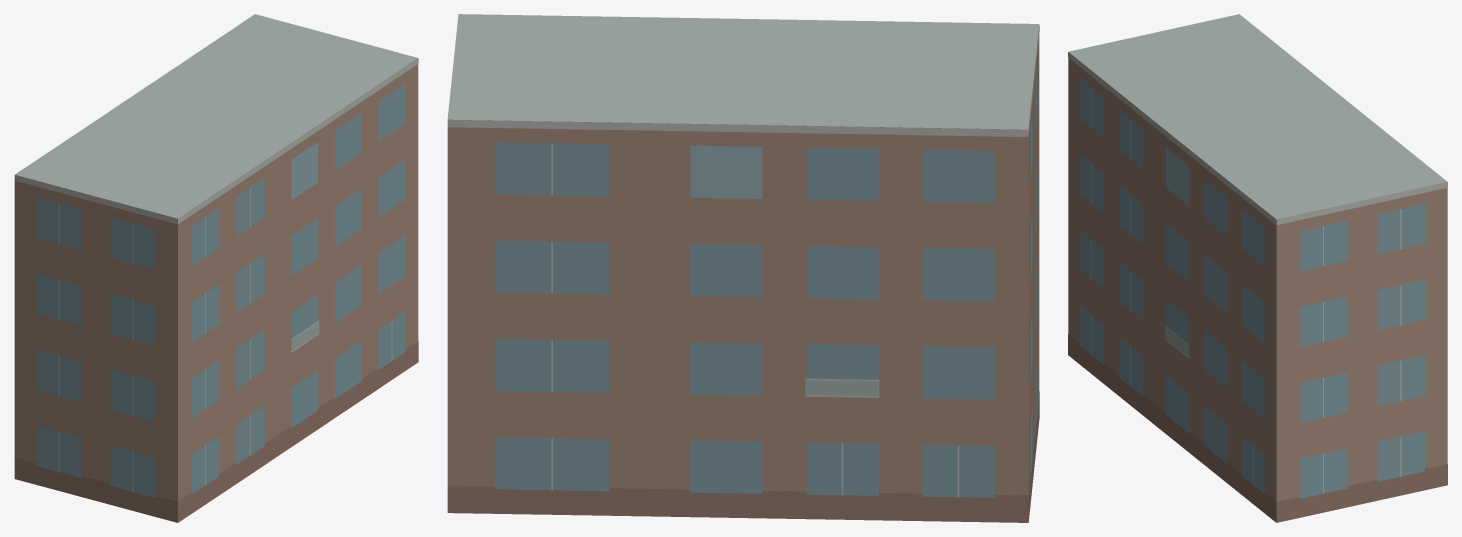
File: survey-upis-32968897.glb
3 views of the same model, side by side, from view 1: azimuth 30°, elevation 25°; view 2: azimuth 150°, elevation 25°; view 3: azimuth 270°, elevation 25° (orthographic). The views are drawn at different scales.
Visible parts, largest first — view 1: survey-upis-32968897.tmp; view 2: survey-upis-32968897.tmp; view 3: survey-upis-32968897.tmp.
Part boxes in pixels (box(x1,y1,x2,y2)): survey-upis-32968897.tmp: box(14, 14, 418, 522); survey-upis-32968897.tmp: box(447, 14, 1039, 522); survey-upis-32968897.tmp: box(1068, 14, 1447, 522).
Size of the model in its own units: 18.61 by 12.8 by 14.53.
